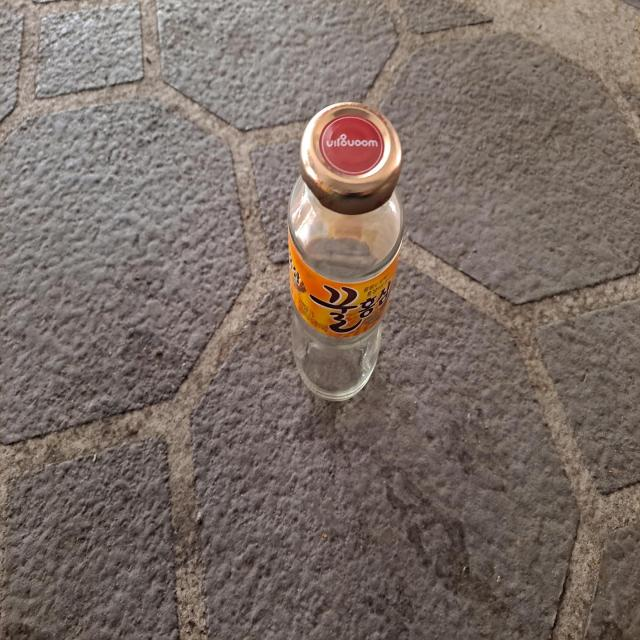glass: (288, 101, 403, 401)
